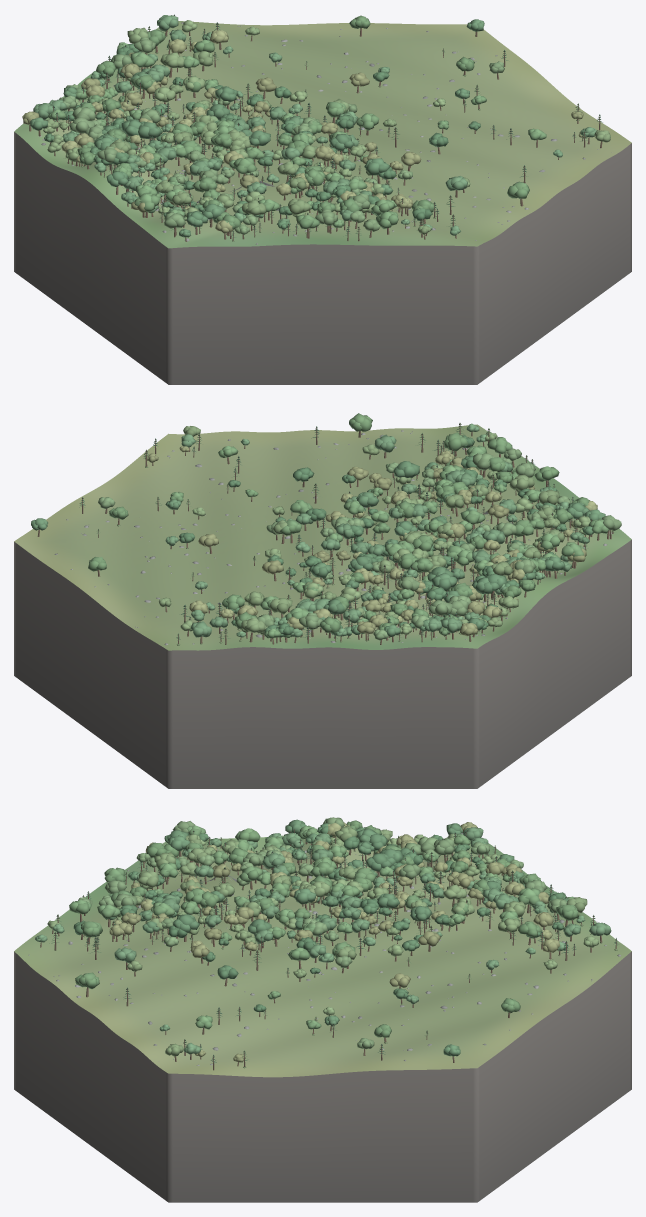
The model's file is f_e3_floresta_5km_v02.glb.
3 views of the same model, one above another, from view 1: azimuth 30°, elevation 25°; view 2: azimuth 150°, elevation 25°; view 3: azimuth 270°, elevation 25° (orthographic).
Parts seen in each view (by area): view 1: hex_side_cut, terrain, broadleaf_canopy, trunks, conifer_canopy, boulders; view 2: hex_side_cut, terrain, broadleaf_canopy, trunks, conifer_canopy, boulders; view 3: hex_side_cut, terrain, broadleaf_canopy, trunks, conifer_canopy, boulders.
Boxes of the visible parts, bbox=[...] form: hex_side_cut: bbox=[14, 132, 631, 384]; terrain: bbox=[14, 21, 631, 248]; broadleaf_canopy: bbox=[22, 15, 610, 237]; trunks: bbox=[29, 15, 602, 241]; conifer_canopy: bbox=[51, 14, 602, 237]; boulders: bbox=[35, 22, 611, 244]; hex_side_cut: bbox=[14, 539, 631, 788]; terrain: bbox=[14, 424, 631, 650]; broadleaf_canopy: bbox=[31, 413, 621, 640]; trunks: bbox=[37, 423, 613, 644]; conifer_canopy: bbox=[79, 423, 614, 640]; boulders: bbox=[54, 429, 612, 645]; hex_side_cut: bbox=[14, 951, 631, 1202]; terrain: bbox=[14, 835, 631, 1077]; broadleaf_canopy: bbox=[35, 817, 611, 1062]; trunks: bbox=[40, 829, 616, 1070]; conifer_canopy: bbox=[49, 830, 618, 1063]; boulders: bbox=[28, 849, 621, 1065].
Size of the model in its own units: 4330 by 1520 by 5000.
